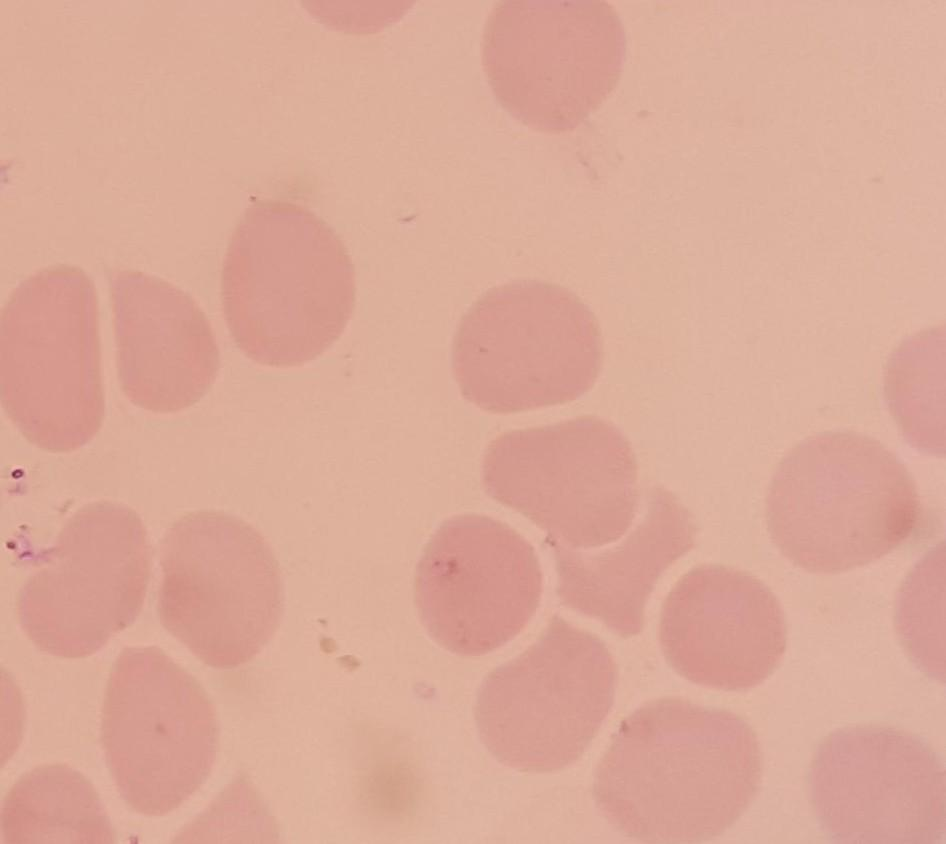Uninfected: (592, 697, 752, 844), (224, 195, 356, 368), (480, 615, 621, 773), (544, 493, 703, 631), (768, 429, 921, 570), (480, 419, 643, 546), (100, 653, 220, 814), (24, 503, 149, 655), (480, 0, 625, 130), (160, 515, 281, 670), (460, 279, 600, 412), (0, 263, 100, 448), (416, 511, 543, 655), (658, 563, 788, 692), (808, 723, 946, 844), (108, 267, 220, 415)
